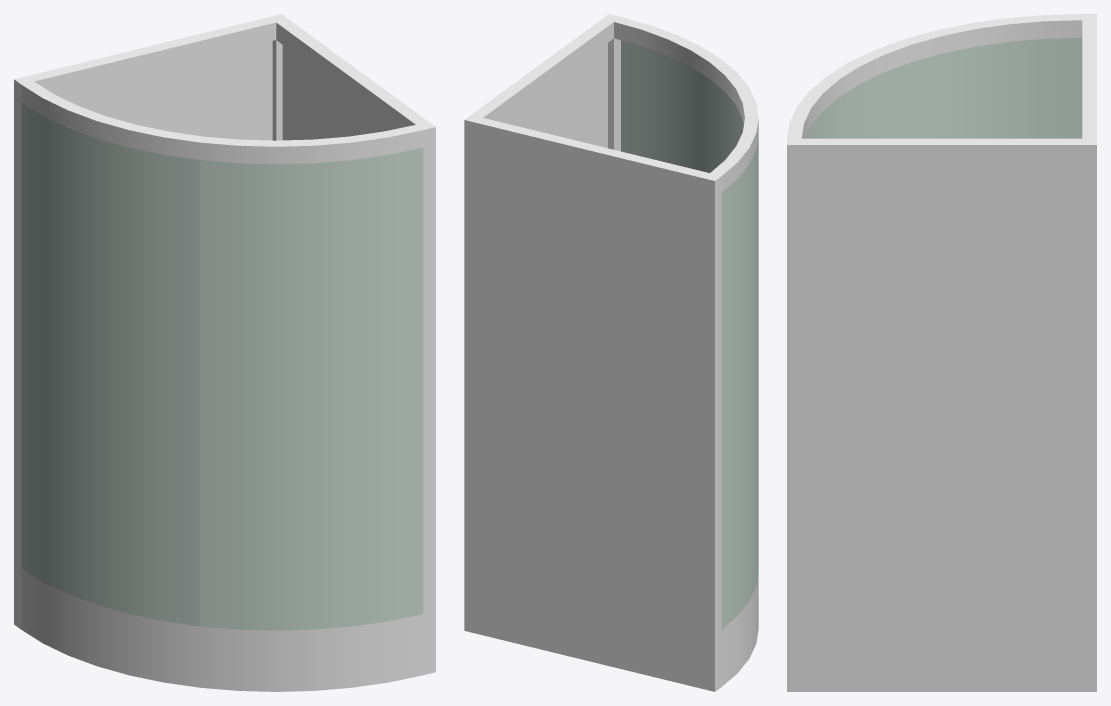
Rendered from showerRound.glb.
The picture shows the model from 3 angles, left to right: view 1: azimuth 30°, elevation 25°; view 2: azimuth 150°, elevation 25°; view 3: azimuth 270°, elevation 25°; orthographic projection. The views are drawn at different scales.
Parts seen in each view (by area): view 1: doorRight, doorLeft, showerRound(Clone); view 2: showerRound(Clone), doorLeft, doorRight; view 3: showerRound(Clone), doorLeft, doorRight.
Part boxes in pixels (left/top/right/bottom): doorRight: left=200, top=147, right=423, bottom=630; doorLeft: left=21, top=102, right=199, bottom=626; showerRound(Clone): left=14, top=14, right=435, bottom=691; showerRound(Clone): left=464, top=14, right=758, bottom=691; doorLeft: left=721, top=136, right=758, bottom=629; doorRight: left=621, top=40, right=743, bottom=172; showerRound(Clone): left=787, top=14, right=1096, bottom=691; doorLeft: left=873, top=37, right=1082, bottom=138; doorRight: left=805, top=77, right=873, bottom=138.
Bounding box in the file's own units: 1.14 × 2.22 × 1.14.
Materials: 4 (4 with a texture image).
